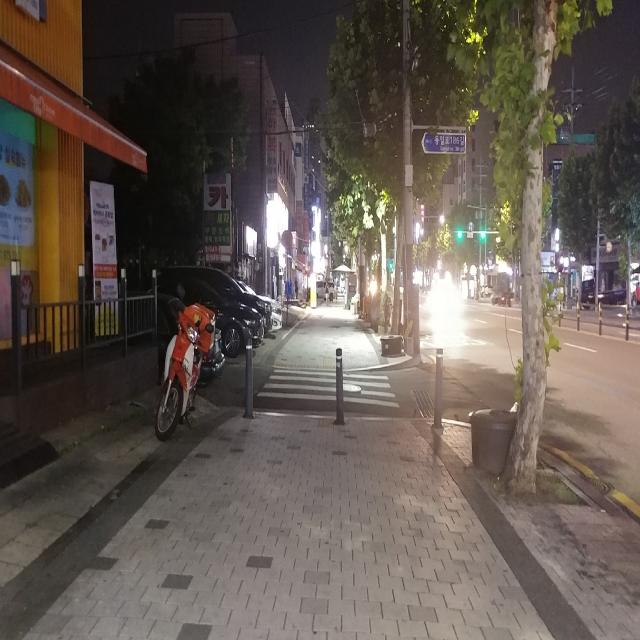횡단보도: (256, 369, 401, 409)
